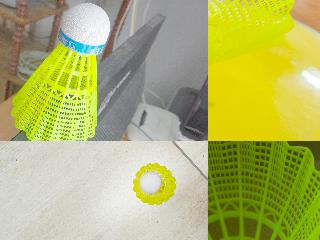shuttlecock: (10, 3, 110, 140), (208, 141, 319, 239), (208, 0, 293, 116), (131, 162, 175, 204)
